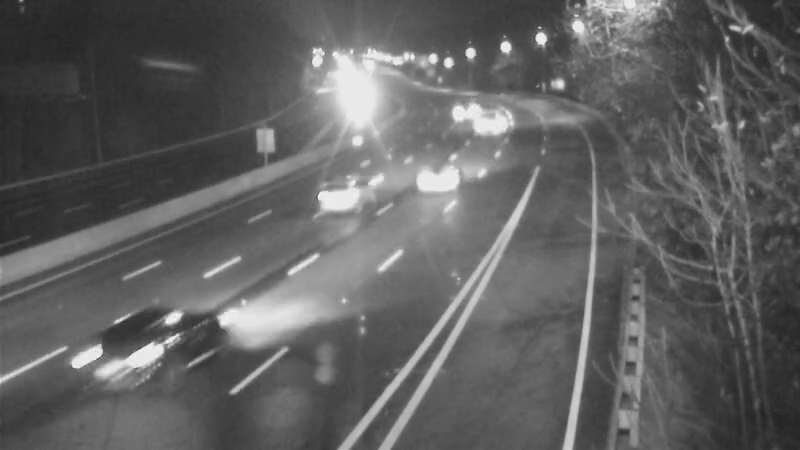vehicle: (66, 305, 176, 415), (397, 137, 477, 217), (299, 157, 379, 237), (437, 83, 487, 133), (466, 101, 516, 151)
